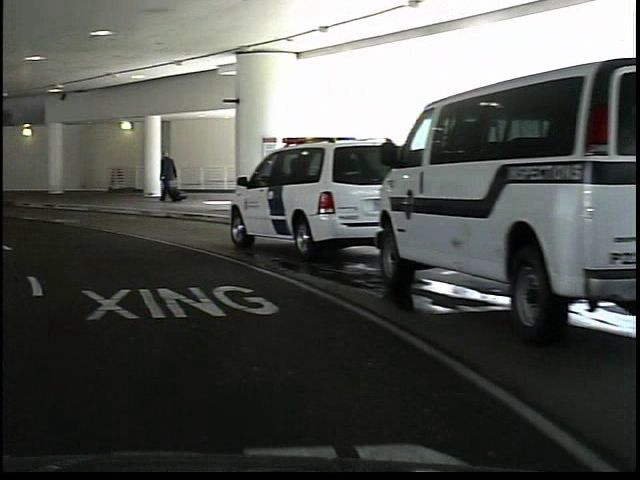person: (152, 147, 177, 206)
